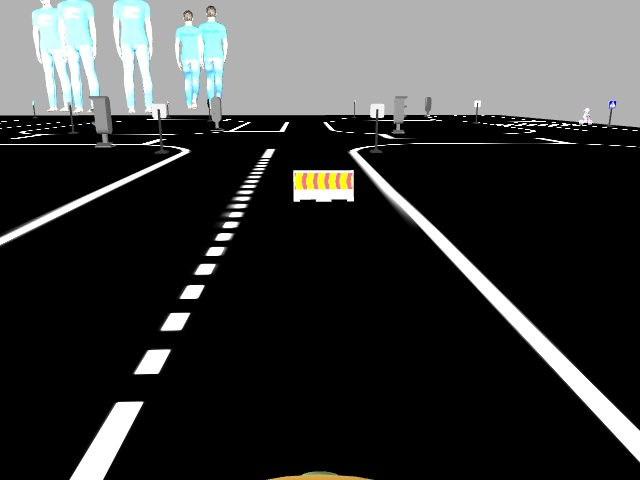ClosedRoadStand: (292, 170, 353, 199)
